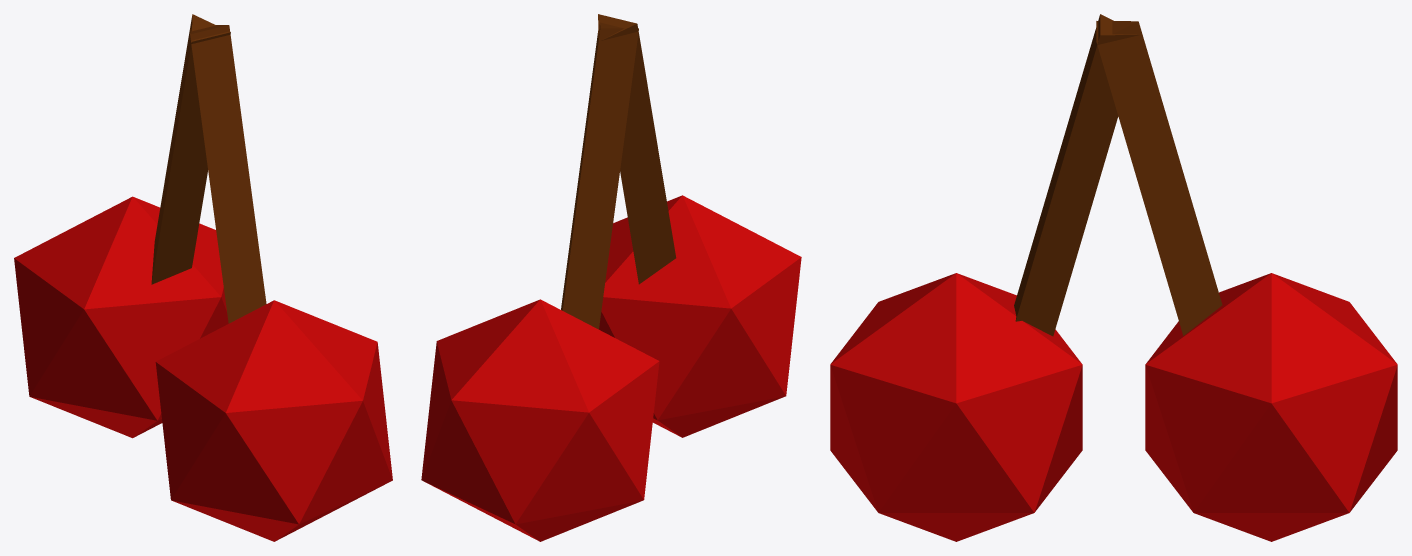
Rendered from Cherry.fbx.
3 renders of one model, left to right at view 1: azimuth 30°, elevation 25°; view 2: azimuth 150°, elevation 25°; view 3: azimuth 270°, elevation 25°, orthographic. The views are drawn at different scales.
Visible parts, largest first — view 1: Cylinder.001; view 2: Cylinder.001; view 3: Cylinder.001.
Part boxes in pixels (x1=…): Cylinder.001: x1=14, y1=14, x2=392, y2=541; Cylinder.001: x1=421, y1=14, x2=801, y2=541; Cylinder.001: x1=830, y1=14, x2=1397, y2=541.
Bounding box in the file's own units: 179 × 387 × 382.
